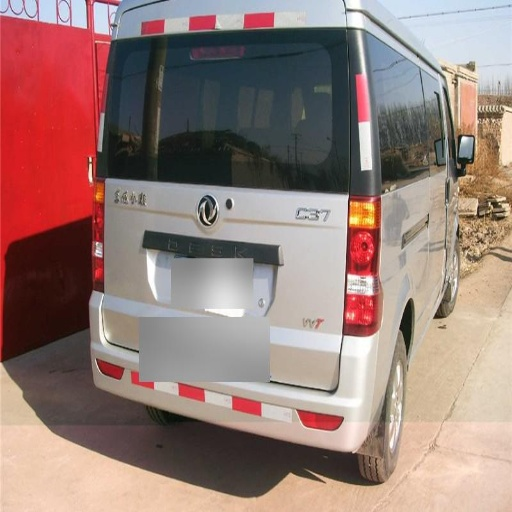back_bumper: (239, 329, 392, 449), (93, 293, 158, 400)
tailgate: (105, 176, 348, 313), (258, 161, 346, 185)
trunk: (111, 197, 352, 388), (282, 69, 346, 121)
